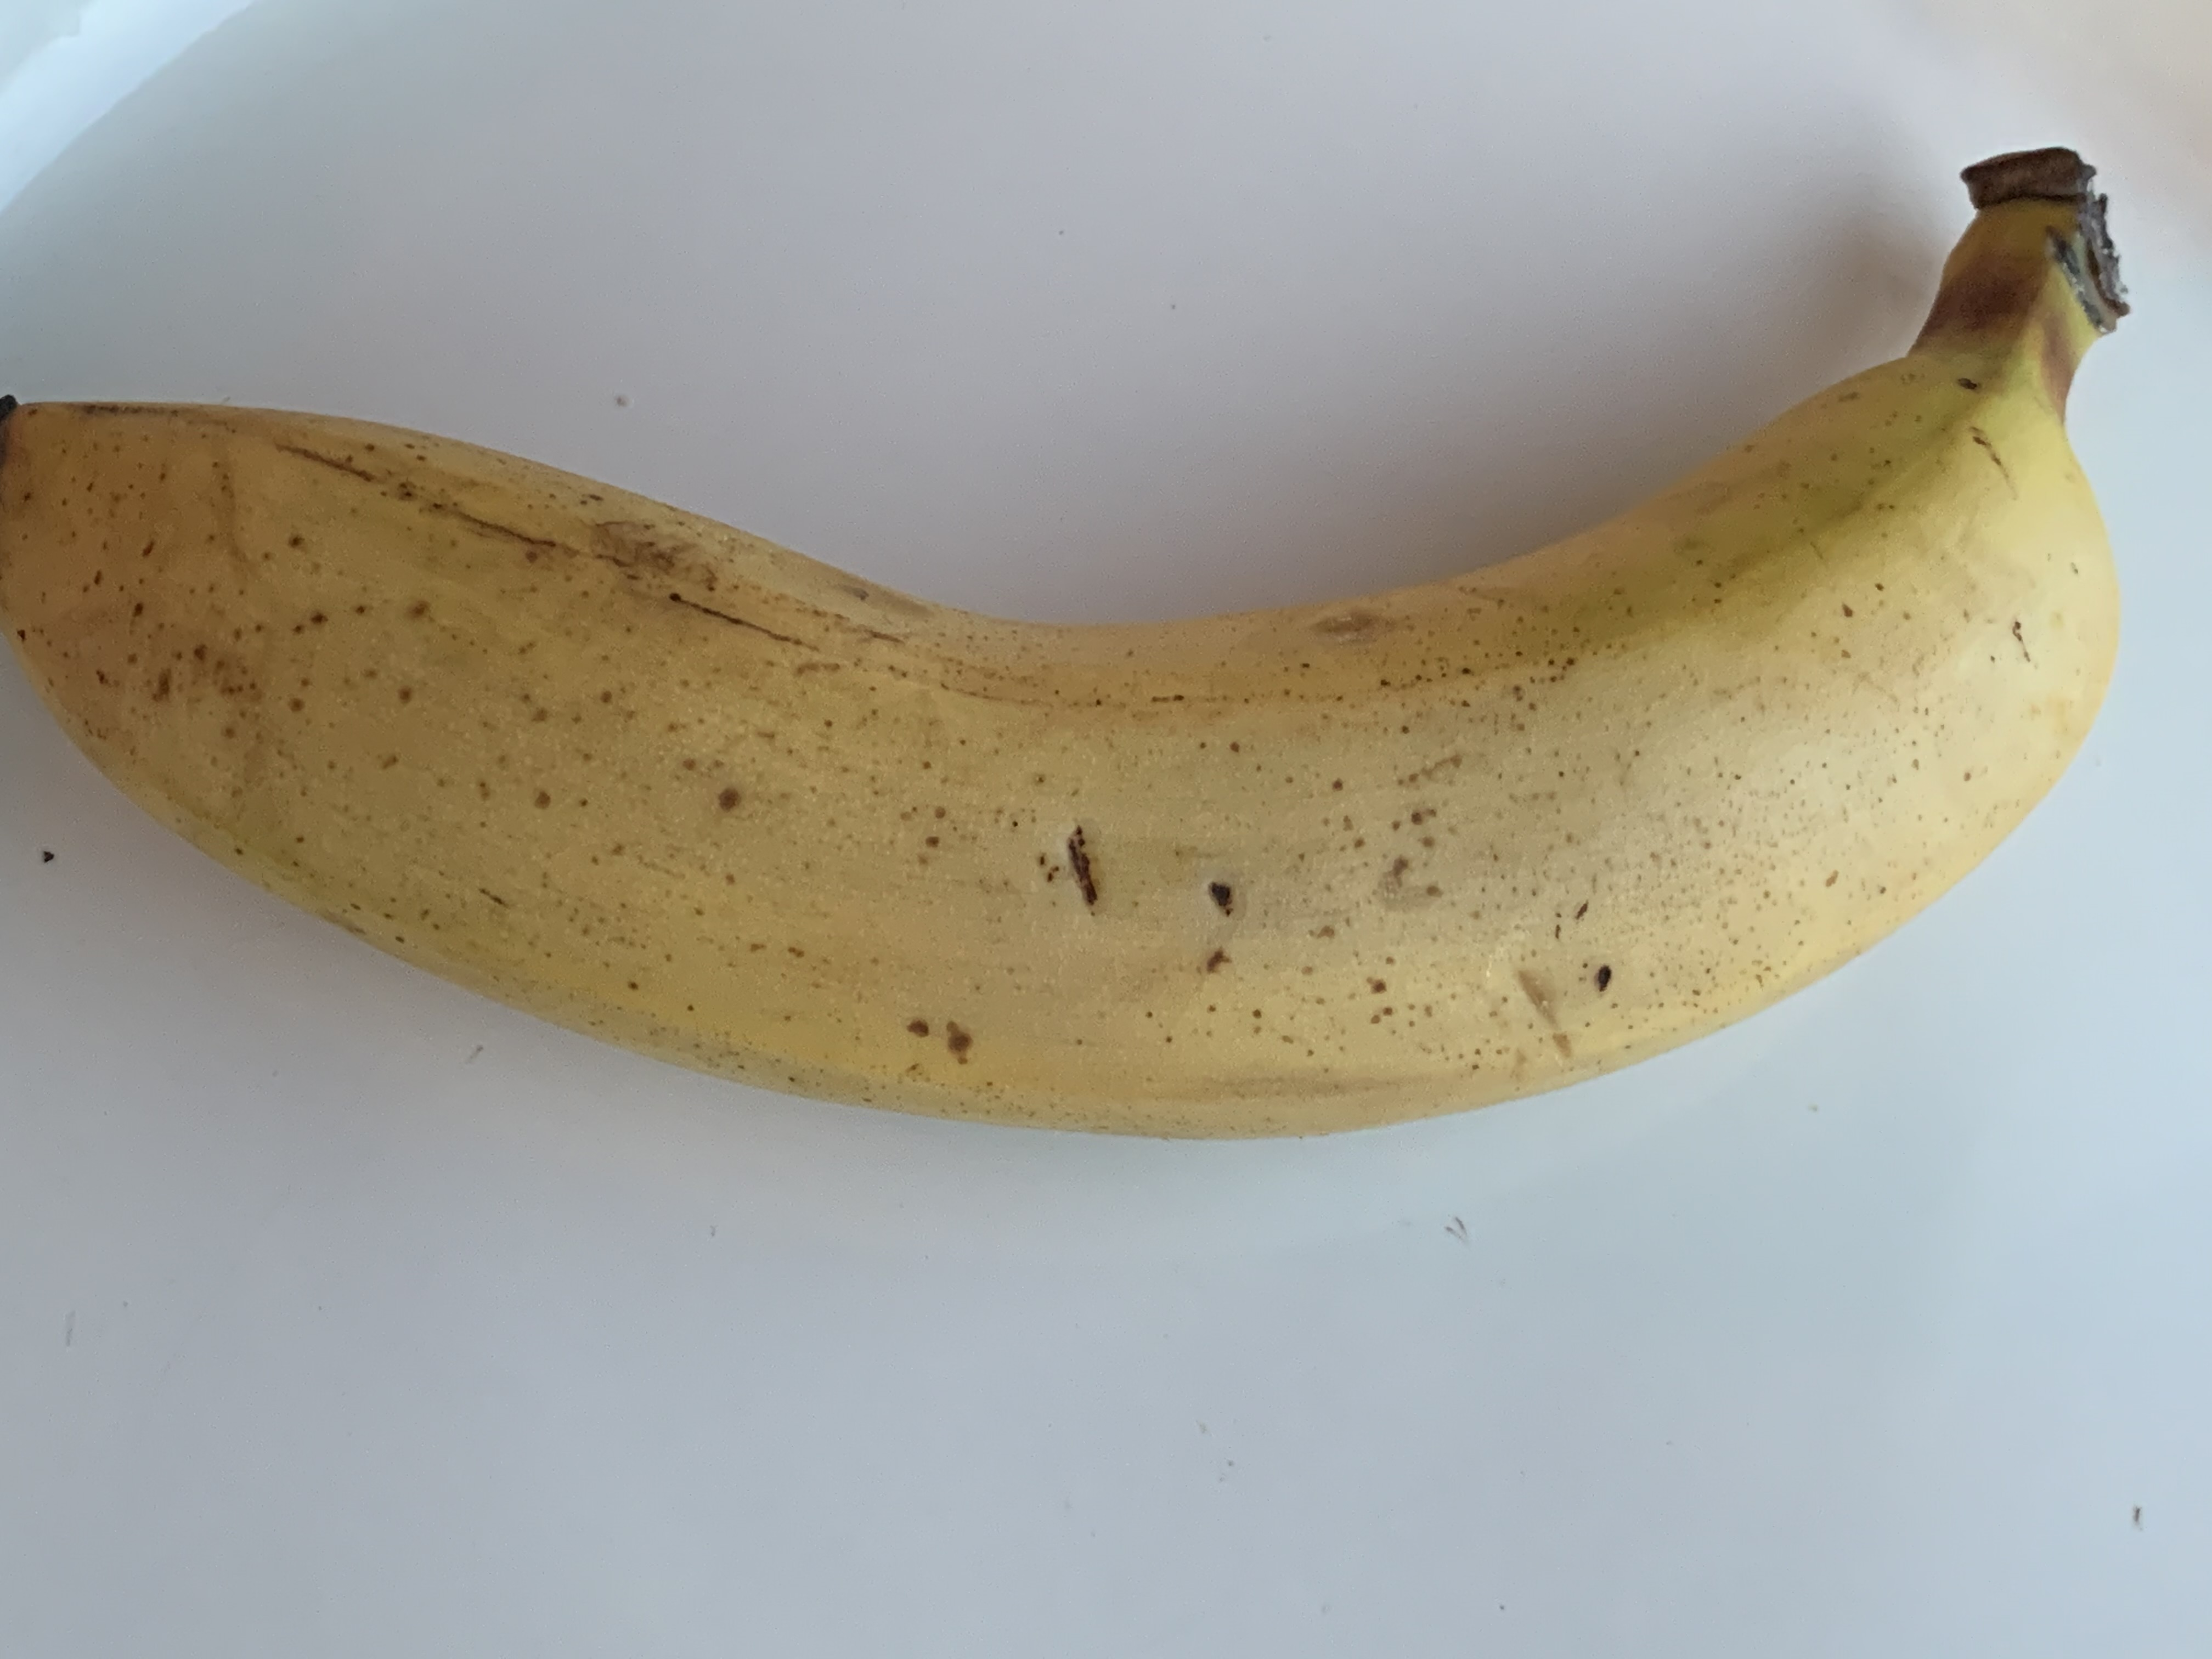banana: (5, 139, 2165, 1143)
